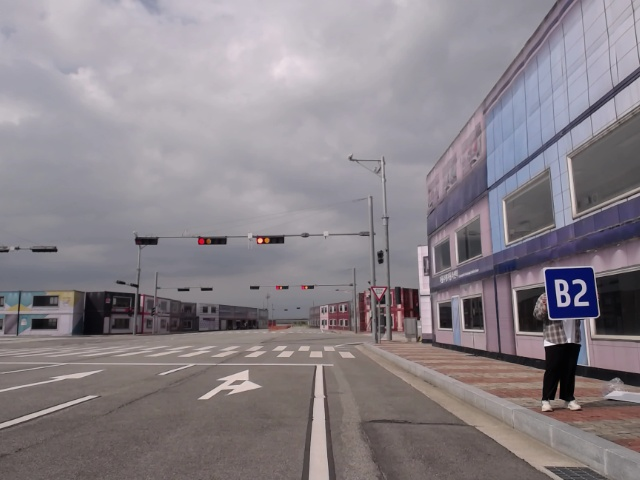delivery_b2: (542, 265, 603, 321)
